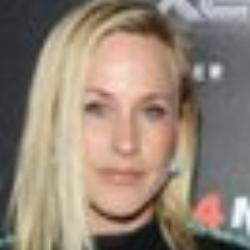face: (13, 1, 207, 240)
